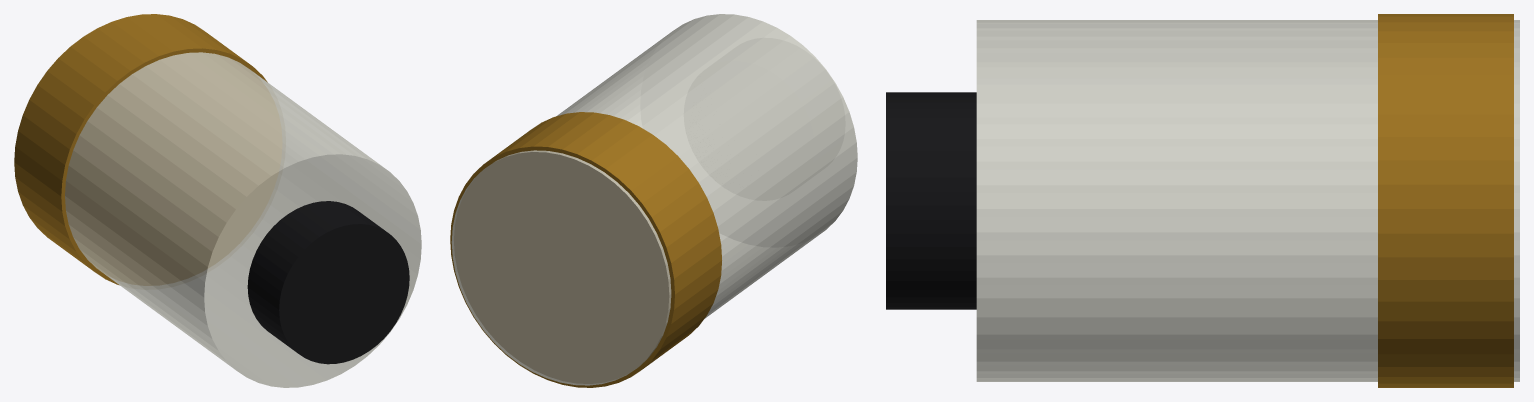
File: grease_collector_ok.glb
3 views of the same model, side by side, from view 1: azimuth 30°, elevation 25°; view 2: azimuth 150°, elevation 25°; view 3: azimuth 270°, elevation 25° (orthographic). The views are drawn at different scales.
Parts seen in each view (by area): view 1: grease_collector_ok; view 2: grease_collector_ok; view 3: grease_collector_ok.
Part boxes in pixels (x1,y1,x2,y2): grease_collector_ok: (14,14,421,387); grease_collector_ok: (450,14,857,387); grease_collector_ok: (886,14,1519,387).
Size of the model in its own units: 0.124 by 0.124 by 0.21.
